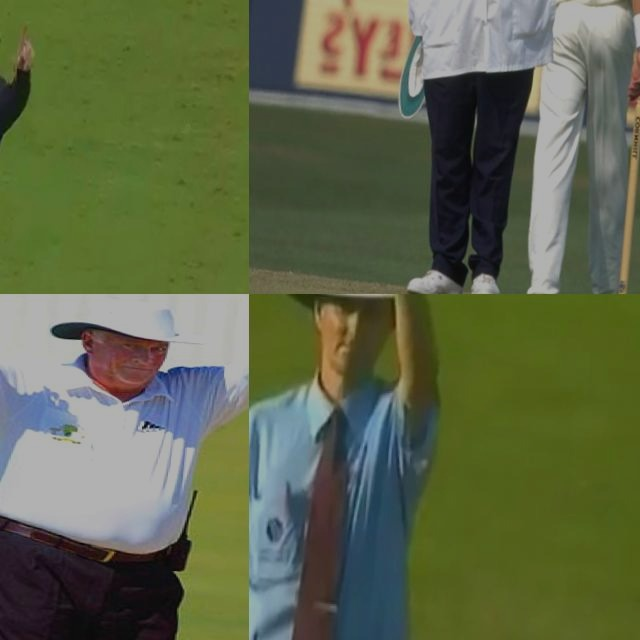Out: (374, 0, 640, 294), (249, 294, 467, 640), (0, 0, 80, 294)
Six: (0, 294, 249, 640)
